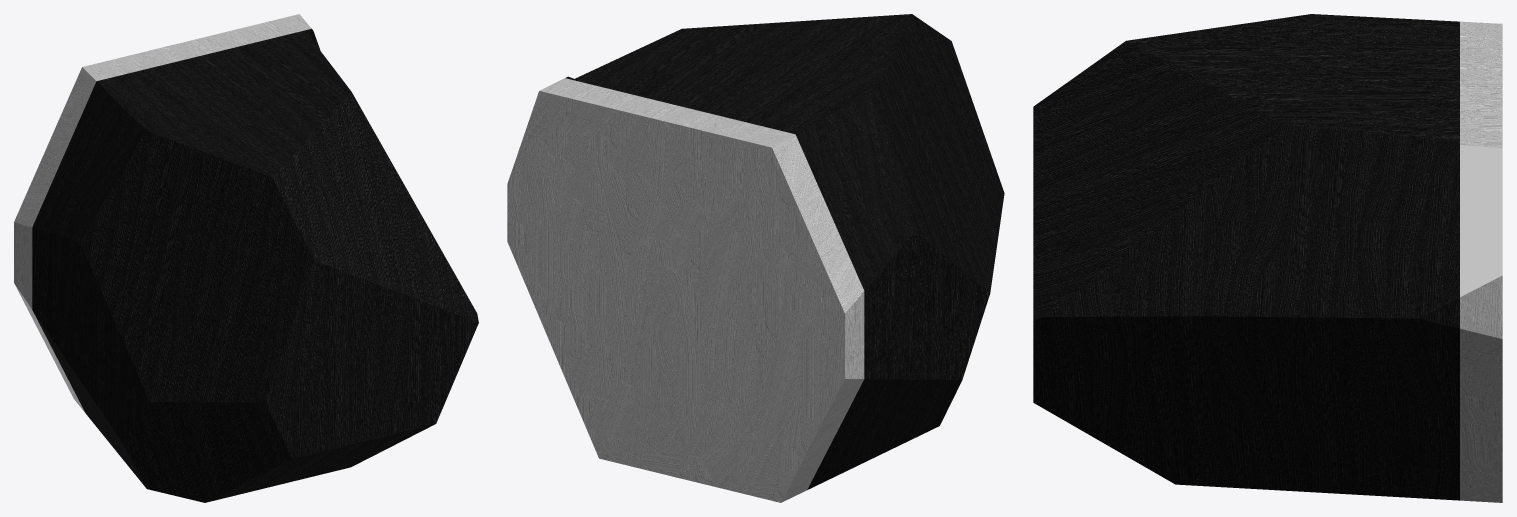
File: LargePiece01.fbx
The picture shows the model from 3 angles, left to right: view 1: azimuth 30°, elevation 25°; view 2: azimuth 150°, elevation 25°; view 3: azimuth 270°, elevation 25°; orthographic projection. The views are drawn at different scales.
Visible parts, largest first — view 1: node_id8, node_id4; view 2: node_id4, node_id8; view 3: node_id8, node_id4 (×2).
Boxes of the visible parts, bbox=[...] form: node_id8: bbox=[32, 28, 478, 502]; node_id4: bbox=[14, 14, 311, 412]; node_id4: bbox=[507, 78, 864, 502]; node_id8: bbox=[565, 14, 1004, 489]; node_id8: bbox=[1033, 14, 1459, 500]; node_id4 (×2): bbox=[1460, 21, 1502, 502].
Bounding box in the file's own units: 0.512 × 0.512 × 0.5632.
5 materials, 4 textured.
